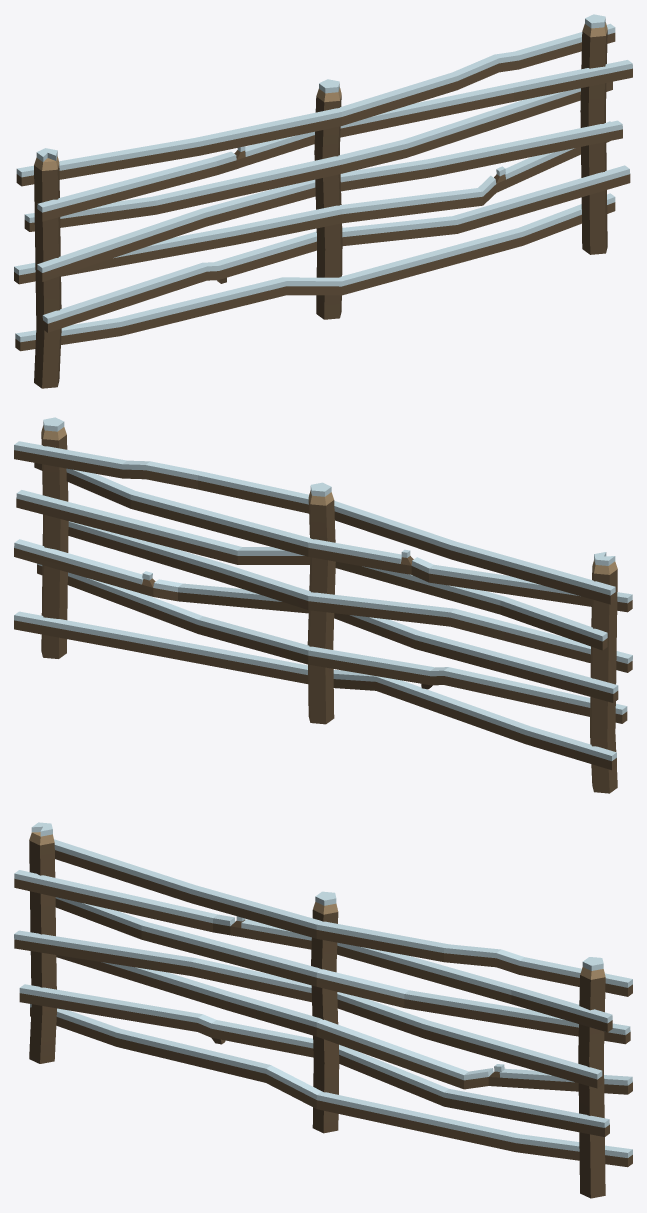
File: Cerca_Palos01.glb
3 renders of one model, top to bottom at view 1: azimuth 30°, elevation 25°; view 2: azimuth 150°, elevation 25°; view 3: azimuth 330°, elevation 25°, orthographic.
Parts seen in each view (by area): view 1: SM_Prop_Fence_Stick_01_Snow; view 2: SM_Prop_Fence_Stick_01_Snow; view 3: SM_Prop_Fence_Stick_01_Snow.
Boxes of the visible parts, box(x1,y1,x2,y2) form: SM_Prop_Fence_Stick_01_Snow: box(14, 14, 632, 388); SM_Prop_Fence_Stick_01_Snow: box(14, 417, 632, 793); SM_Prop_Fence_Stick_01_Snow: box(14, 822, 632, 1198).
Size of the model in its own units: 3.26 by 1.21 by 0.2261.
1 material, 1 textured.
